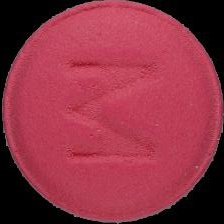0378-0069: (0, 0, 224, 224)
